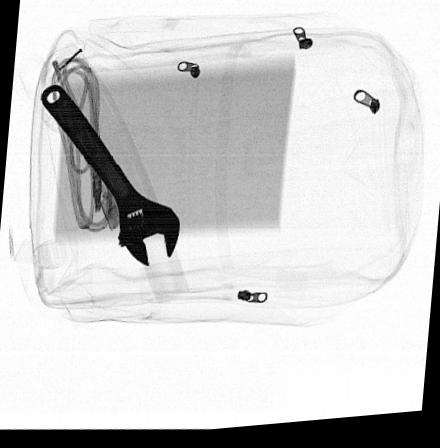Wrench: (38, 82, 180, 271)
